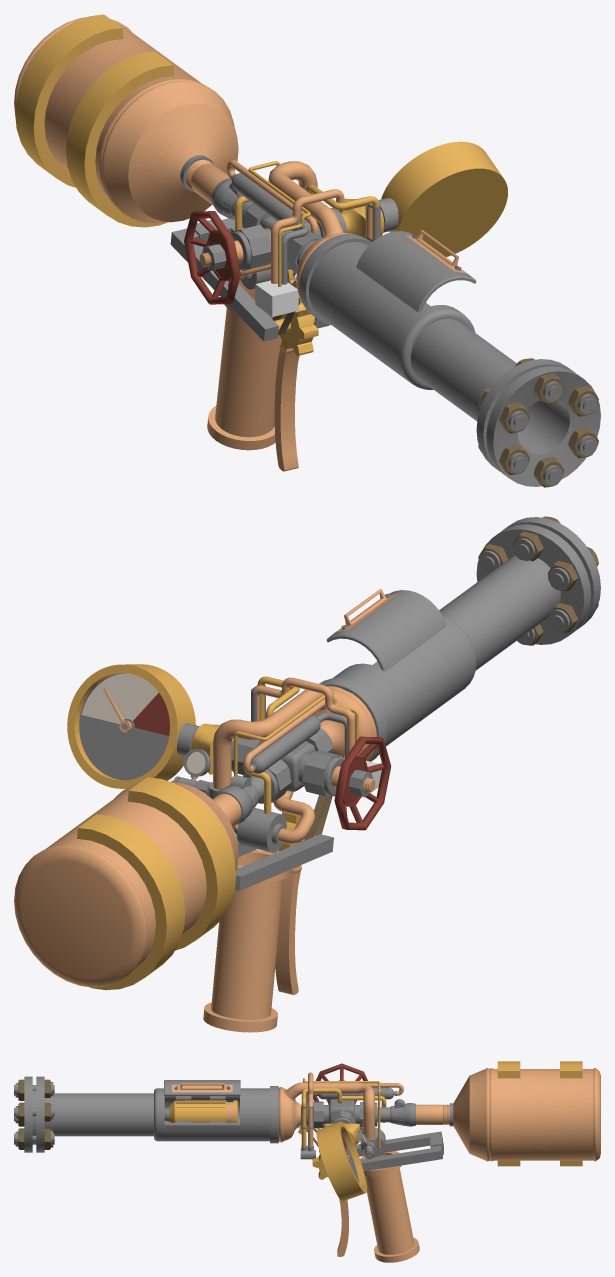
Rendered from PipeRevolver.fbx.
3 renders of one model, top to bottom at view 1: azimuth 30°, elevation 25°; view 2: azimuth 150°, elevation 25°; view 3: azimuth 270°, elevation 25°, orthographic. The views are drawn at different scales.
Parts seen in each view (by area): view 1: Circle, TankCap, BigGauge, Cylinder.005, Tank, Sphere.003, Sphere.004, Circle.002, Gear.004, Cylinder.002, Cross Joint.003, Cube.002 (+11 smaller); view 2: Circle, Tank, BigGauge, Cylinder.005, Sphere.004, Sphere.003, Circle.002, Cross Joint.003, Cylinder.002, Gear.004, Cube.002, Cylinder (+10 smaller); view 3: Circle, Tank, Cylinder.005, TankCap, BigGauge, Cube.002, Bullet, Cross Joint.003, TankPipe, Circle.002, Gear.004, MediumPipes.002 (+11 smaller).
Part boxes in pixels (x1,y1,x2,y2): Circle: (268,161,600,486); TankCap: (102,80,238,223); BigGauge: (381,141,507,256); Cylinder.005: (207,279,282,450); Tank: (14,17,203,209); Sphere.003: (66,51,174,227); Sphere.004: (15,14,123,187); Circle.002: (356,231,476,312); Gear.004: (274,303,318,471); Cylinder.002: (184,211,243,304); Cross Joint.003: (231,203,346,272); Cube.002: (170,218,329,341); Circle: (213,517,600,831); Tank: (14,786,206,987); BigGauge: (67,664,195,788); Cylinder.005: (203,850,290,1032); Sphere.004: (77,814,185,990); Sphere.003: (127,777,236,950); Circle.002: (326,590,446,671); Cross Joint.003: (231,728,343,803); Cylinder.002: (331,736,391,830); Gear.004: (274,812,314,994); Cube.002: (235,834,333,890); Cylinder: (478,538,595,644); Circle: (24,1076,374,1158); Tank: (489,1068,600,1161); Cylinder.005: (360,1151,419,1262); TankCap: (449,1068,489,1161); BigGauge: (316,1121,366,1201); Cube.002: (355,1131,443,1171); Bullet: (164,1100,237,1122); Cross Joint.003: (306,1099,377,1127); TankPipe: (377,1104,449,1124); Circle.002: (164,1080,240,1095); Gear.004: (312,1149,348,1256); MediumPipes.002: (301,1088,386,1146).
Size of the model in its own units: 547 by 549 by 1541.
